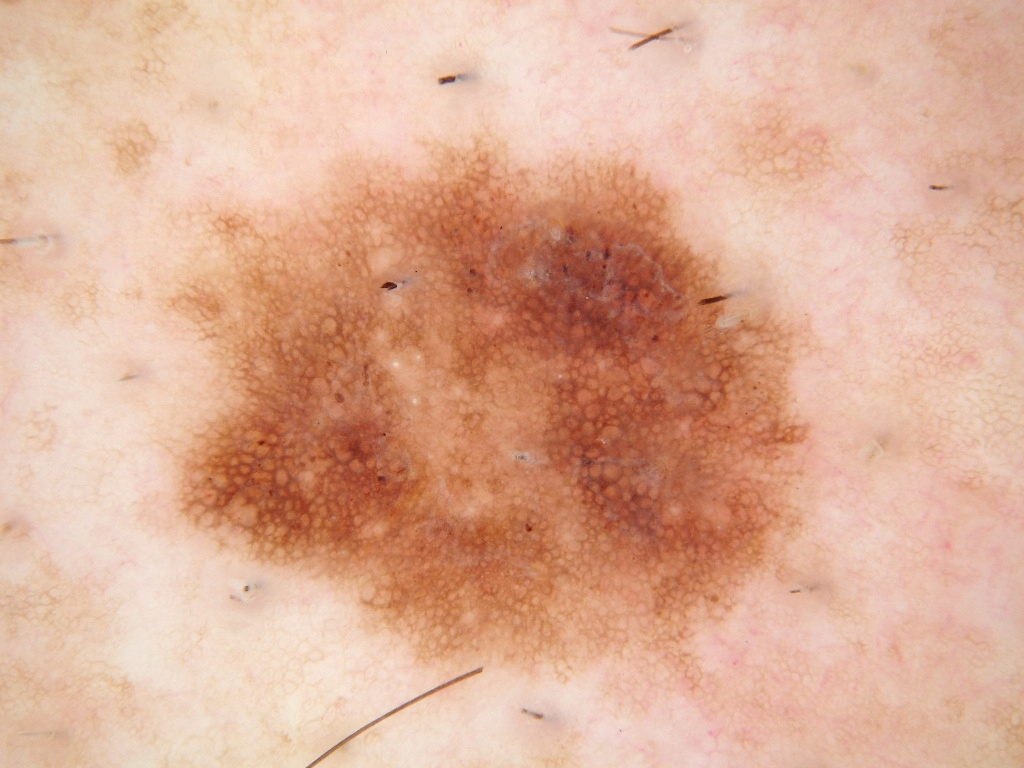Detected Lesion: (151, 125, 826, 697)
